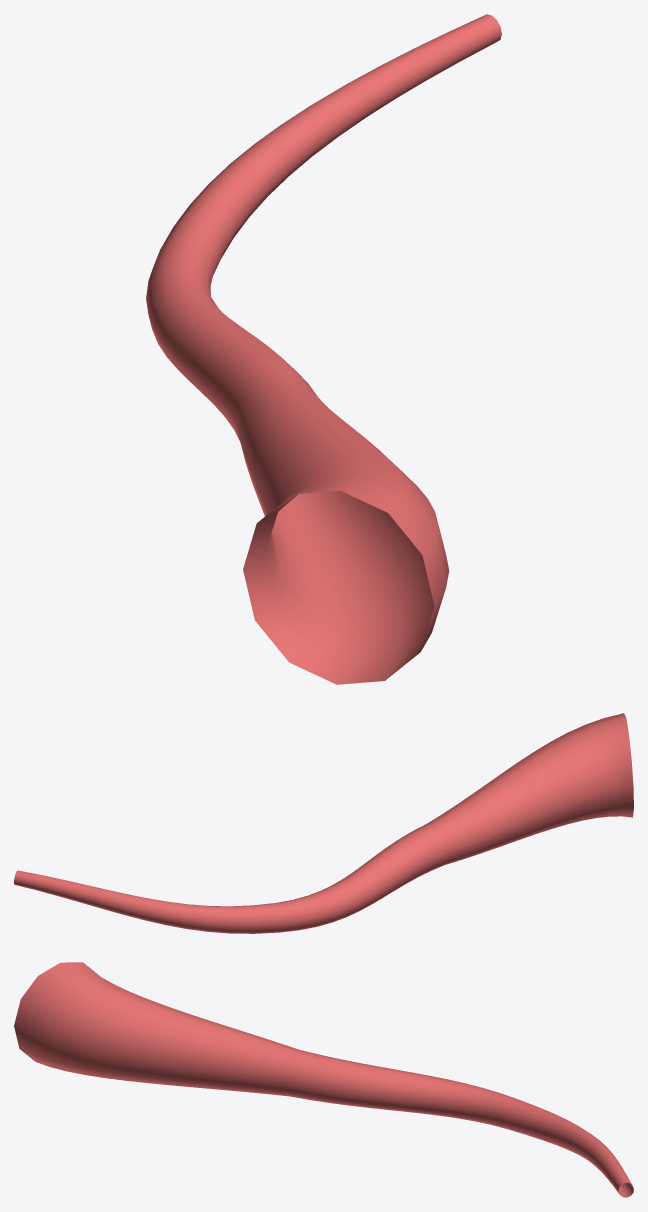
Rendered from Posterior_branch_of_renal_artery.l_BezierCurve.449.glb.
3 renders of one model, top to bottom at view 1: azimuth 30°, elevation 25°; view 2: azimuth 150°, elevation 25°; view 3: azimuth 270°, elevation 25°, orthographic. The views are drawn at different scales.
Visible parts, largest first — view 1: Posterior_branch_of_renal_artery.l_BezierCurve.449; view 2: Posterior_branch_of_renal_artery.l_BezierCurve.449; view 3: Posterior_branch_of_renal_artery.l_BezierCurve.449.
Boxes of the visible parts, box(x1,y1,x2,y2) form: Posterior_branch_of_renal_artery.l_BezierCurve.449: box(146, 14, 501, 684); Posterior_branch_of_renal_artery.l_BezierCurve.449: box(14, 713, 633, 933); Posterior_branch_of_renal_artery.l_BezierCurve.449: box(14, 962, 633, 1197).
Size of the model in its own units: 0.0286 by 0.00699 by 0.039.
